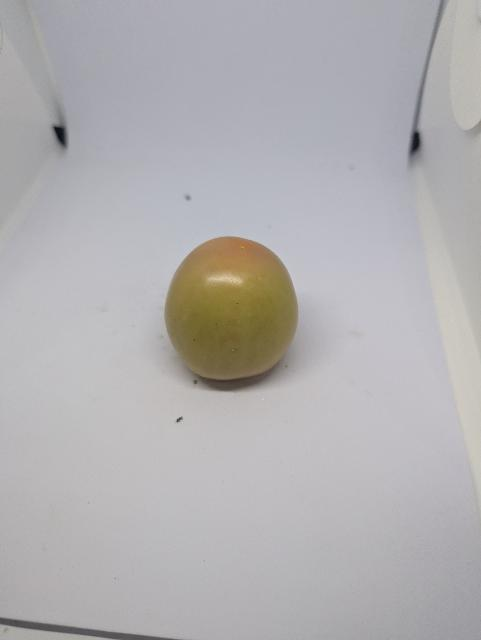breaker: (165, 237, 298, 380)
